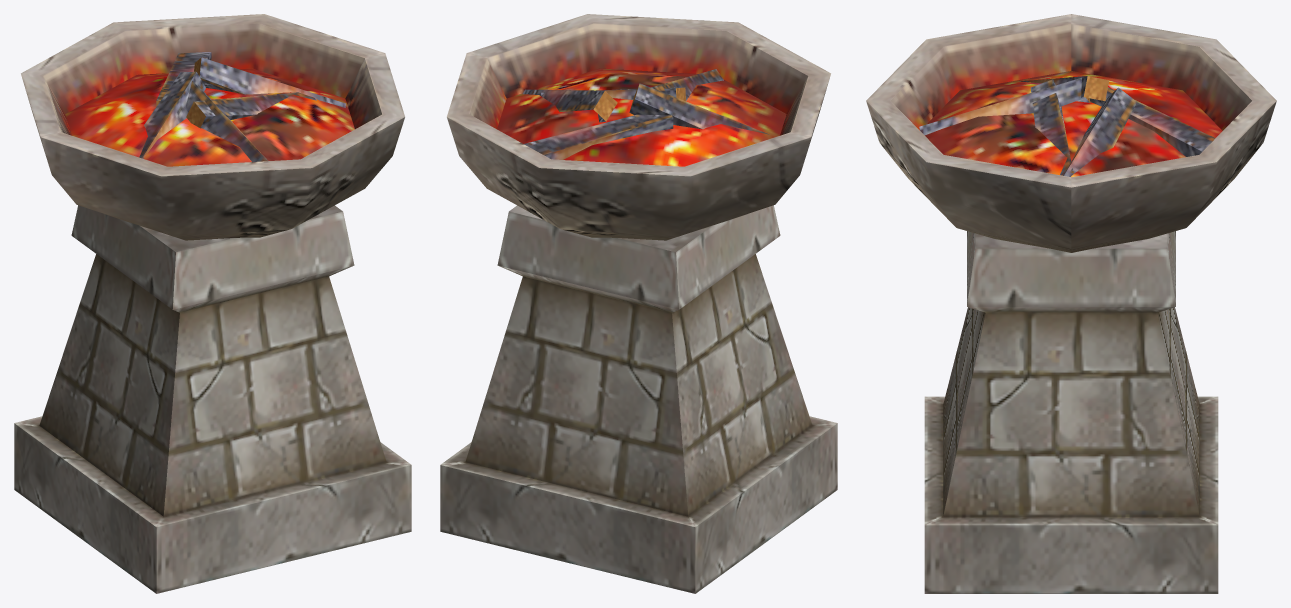
File: Arena1_brazier.FBX
3 views of the same model, side by side, from view 1: azimuth 30°, elevation 25°; view 2: azimuth 150°, elevation 25°; view 3: azimuth 270°, elevation 25° (orthographic). The views are drawn at different scales.
Visible parts, largest first — view 1: Arena1_brazier; view 2: Arena1_brazier; view 3: Arena1_brazier.
Part boxes in pixels (x1,y1,x2,y2): Arena1_brazier: (14,14,411,593); Arena1_brazier: (440,14,837,593); Arena1_brazier: (866,14,1276,593).
Size of the model in its own units: 113 by 136 by 113.
